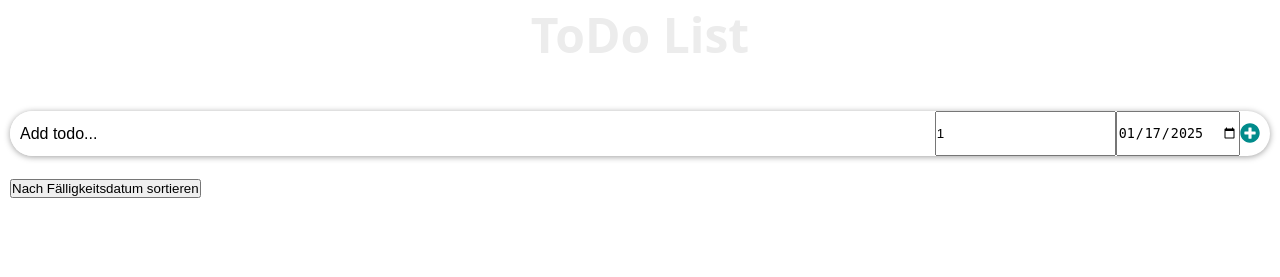
Test case: TodoContainer - Add and Delete Todos › adds a new todo item
The width and height of the screenshot is (1280, 277).
Step 1. Type "Learn Testing" into the field with placeholder "Add todo..." → coordinates (472, 134), box [10,111,935,156]
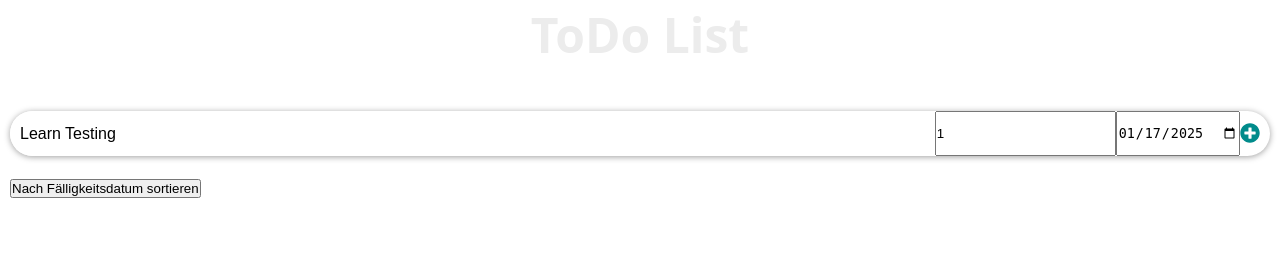
Step 2. Click the button with test id "add" → coordinates (1250, 134), box [1240,111,1260,156]
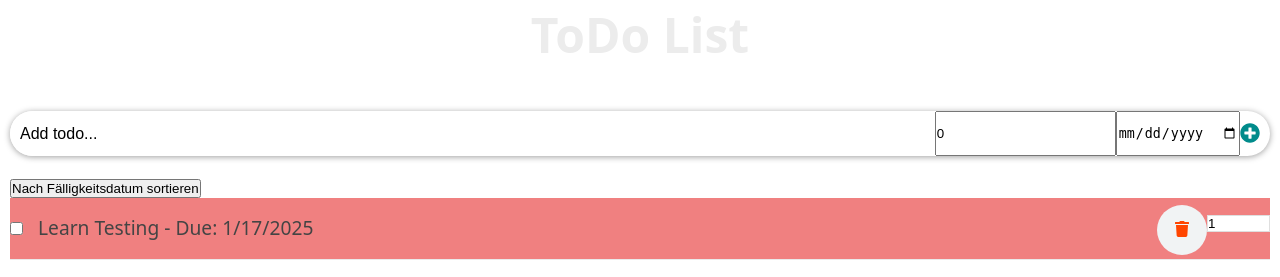
Expected: the text "Learn Testing" is shown, [38,214,159,241]
